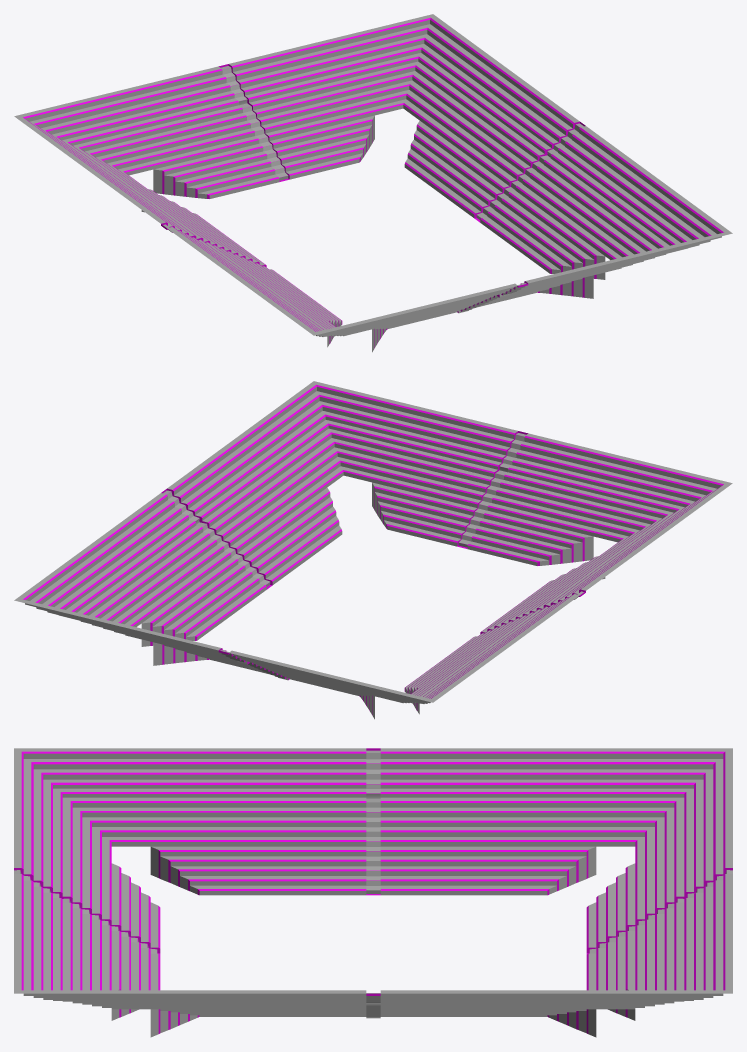
Rendered from StadiumDone.fbx.
3 renders of one model, top to bottom at view 1: azimuth 30°, elevation 25°; view 2: azimuth 150°, elevation 25°; view 3: azimuth 270°, elevation 25°, orthographic. The views are drawn at different scales.
Parts seen in each view (by area): view 1: pPlane9; view 2: pPlane9; view 3: pPlane9.
Part boxes in pixels (x1,y1,x2,y2): pPlane9: (14, 14, 732, 352); pPlane9: (14, 381, 732, 719); pPlane9: (14, 748, 732, 1037).
Bounding box in the file's own units: 29.72 × 4.82 × 36.83.
